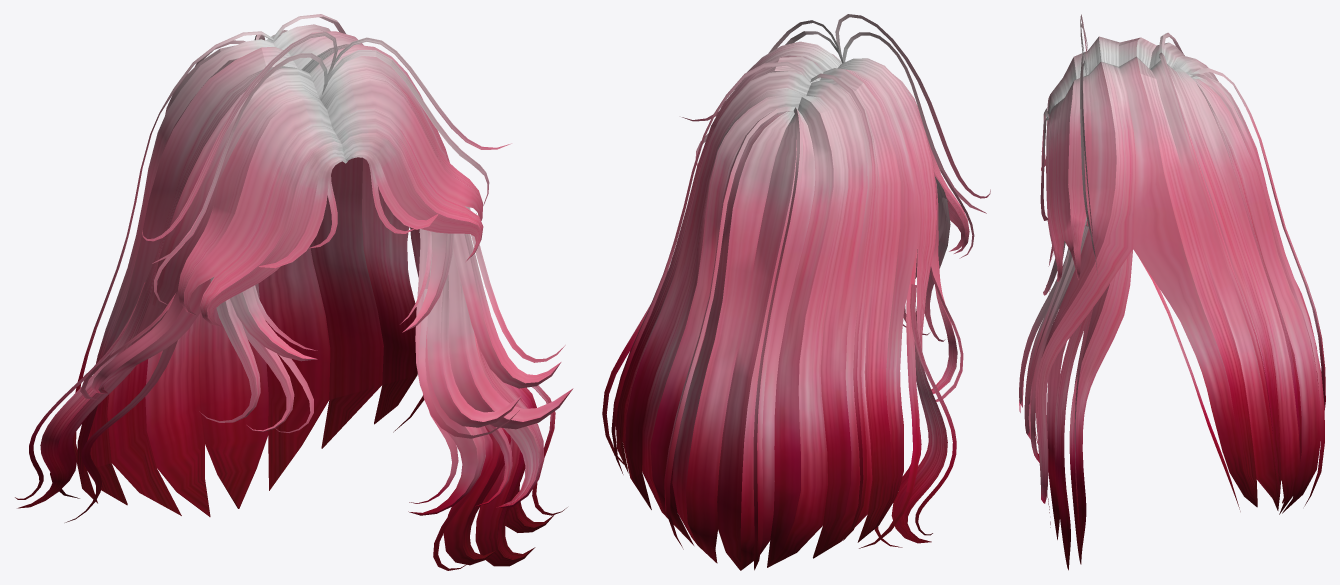
3 renders of one model, left to right at view 1: azimuth 30°, elevation 25°; view 2: azimuth 150°, elevation 25°; view 3: azimuth 270°, elevation 25°, orthographic. The views are drawn at different scales.
Parts seen in each view (by area): view 1: Object_2; view 2: Object_2; view 3: Object_2.
Boxes of the visible parts, x1,y1,x2,y2 form: Object_2: [15, 14, 573, 570]; Object_2: [602, 14, 990, 570]; Object_2: [1019, 14, 1325, 570].
Bounding box in the file's own units: 2.2 × 2.67 × 1.56.
1 material, 1 textured.
